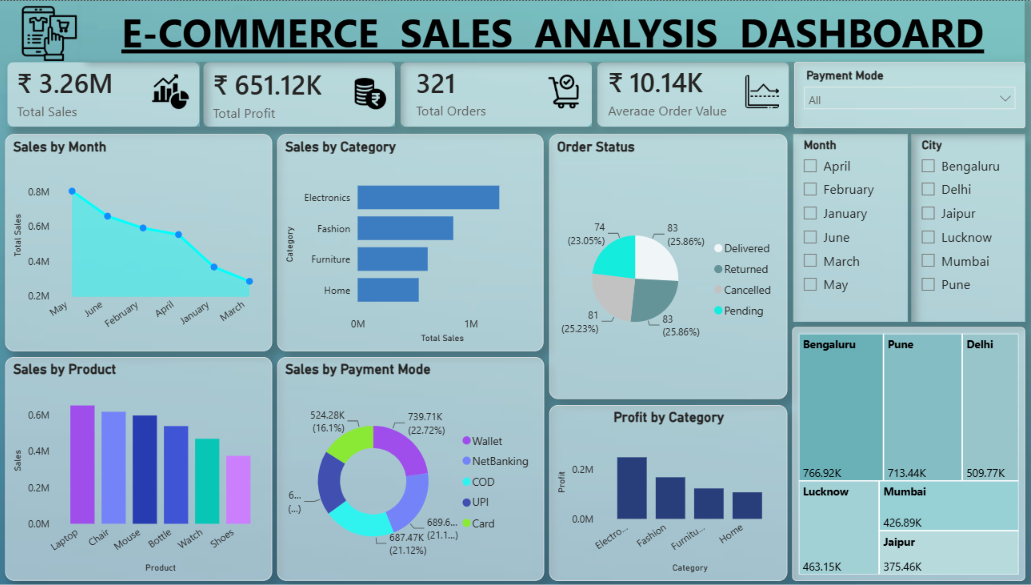

What the dashboard file says about the page in this screenshot:
{"tool":"powerbi","page":{"name":"Page 1","canvas":[1280,720],"ordinal":0},"visuals":[{"type":"shape","box":[501.8,75.1,234.8,79.5],"z":0},{"type":"shape","box":[742.7,75.1,234.8,79.5],"z":1000},{"type":"shape","box":[260.9,75.1,234.8,79.5],"z":2000},{"type":"shape","box":[20.9,74.4,235.1,79.3],"z":3000},{"type":"textbox","box":[110.1,0,1155.6,74.6],"z":4000},{"type":"lineChart","title":"Sales by Month","fields":{"Category":["E_Orders.Month"],"Y":["Sum(E_Orders.Net_Amount)"]},"box":[18.3,162.6,326.5,265.4],"z":5000},{"type":"clusteredBarChart","title":"Sales by Category","fields":{"Category":["E_Orders.Category"],"Y":["Sum(E_Orders.Net_Amount)"]},"box":[351,162.6,325.3,265.4],"z":6000},{"type":"columnChart","title":"Sales by Product","fields":{"Category":["E_Orders.Product"],"Y":["Sum(E_Orders.Net_Amount)"]},"box":[18.3,435.3,326.5,273.9],"z":7000},{"type":"donutChart","title":"Sales by Payment Mode","fields":{"Category":["E_Orders.Payment_Mode"],"Y":["Sum(E_Orders.Net_Amount)"]},"box":[351,435.3,326.5,273.9],"z":8000},{"type":"pieChart","title":"Order Status","fields":{"Category":["E_Orders.Order_Status"],"Y":["CountNonNull(E_Orders.Order_Status)"]},"box":[683.6,162.6,291,324.1],"z":9000},{"type":"columnChart","title":"Profit by Category","fields":{"Category":["E_Orders.Category"],"Y":["Sum(E_Orders.Profit)"]},"box":[683.6,494,291,215.2],"z":10000},{"type":"slicer","fields":{"Values":["E_Orders.City"]},"box":[1126.2,162.6,139.4,229.9],"z":11000},{"type":"slicer","title":"Payment Mode","fields":{"Values":["E_Orders.Payment_Mode"]},"box":[983.2,74.6,282.5,80.7],"z":12000},{"type":"slicer","fields":{"Values":["E_Orders.Month"]},"box":[981.9,162.6,140,229.9],"z":13000},{"type":"treemap","fields":{"Group":["E_Orders.City"],"Values":["Sum(E_Orders.Net_Amount)"]},"box":[980.7,398.6,284.9,310.6],"z":14000},{"type":"cardVisual","fields":{"Data":["DAX Measures.Total Profit"]},"box":[243.3,66,270.2,95.4],"z":15000},{"type":"cardVisual","fields":{"Data":["DAX Measures.Total Orders"]},"box":[491.6,63.6,259.2,94.2],"z":16000},{"type":"cardVisual","fields":{"Data":["DAX Measures.Average Order Value"]},"box":[726.4,64.8,267.8,92.9],"z":17000},{"type":"cardVisual","fields":{"Data":["DAX Measures.Total Sales"]},"box":[3.7,63.6,269,95.4],"z":18000},{"type":"image","box":[17.1,6.1,110.1,67.3],"z":19000}]}

Visuals, with their boxes in screenshot pixels (x1, y1, x2, y2), scaled from the page's 1280x720 canvas onto the 1031x585 screenshot:
shape: bbox=(404, 61, 593, 126)
shape: bbox=(598, 61, 787, 126)
shape: bbox=(210, 61, 399, 126)
shape: bbox=(17, 60, 206, 125)
textbox: bbox=(89, 0, 1019, 61)
"Sales by Month" lineChart: bbox=(15, 132, 278, 348)
"Sales by Category" clusteredBarChart: bbox=(283, 132, 545, 348)
"Sales by Product" columnChart: bbox=(15, 354, 278, 576)
"Sales by Payment Mode" donutChart: bbox=(283, 354, 546, 576)
"Order Status" pieChart: bbox=(551, 132, 785, 395)
"Profit by Category" columnChart: bbox=(551, 401, 785, 576)
slicer - E_Orders.City: bbox=(907, 132, 1019, 319)
"Payment Mode" slicer: bbox=(792, 61, 1019, 126)
slicer - E_Orders.Month: bbox=(791, 132, 904, 319)
treemap - E_Orders.City x Sum(E_Orders.Net_Amount): bbox=(790, 324, 1019, 576)
cardVisual - DAX Measures.Total Profit: bbox=(196, 54, 414, 131)
cardVisual - DAX Measures.Total Orders: bbox=(396, 52, 605, 128)
cardVisual - DAX Measures.Average Order Value: bbox=(585, 53, 801, 128)
cardVisual - DAX Measures.Total Sales: bbox=(3, 52, 220, 129)
image: bbox=(14, 5, 102, 60)
